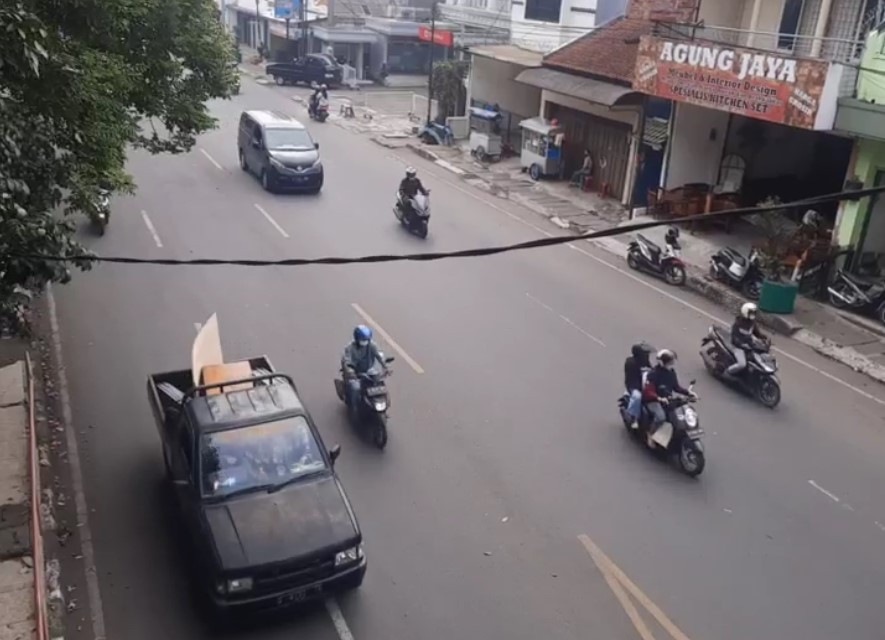mobil: (130, 347, 356, 609), (229, 103, 327, 192)
motor: (621, 346, 708, 477), (704, 294, 784, 407), (335, 326, 401, 444), (397, 173, 436, 237)
